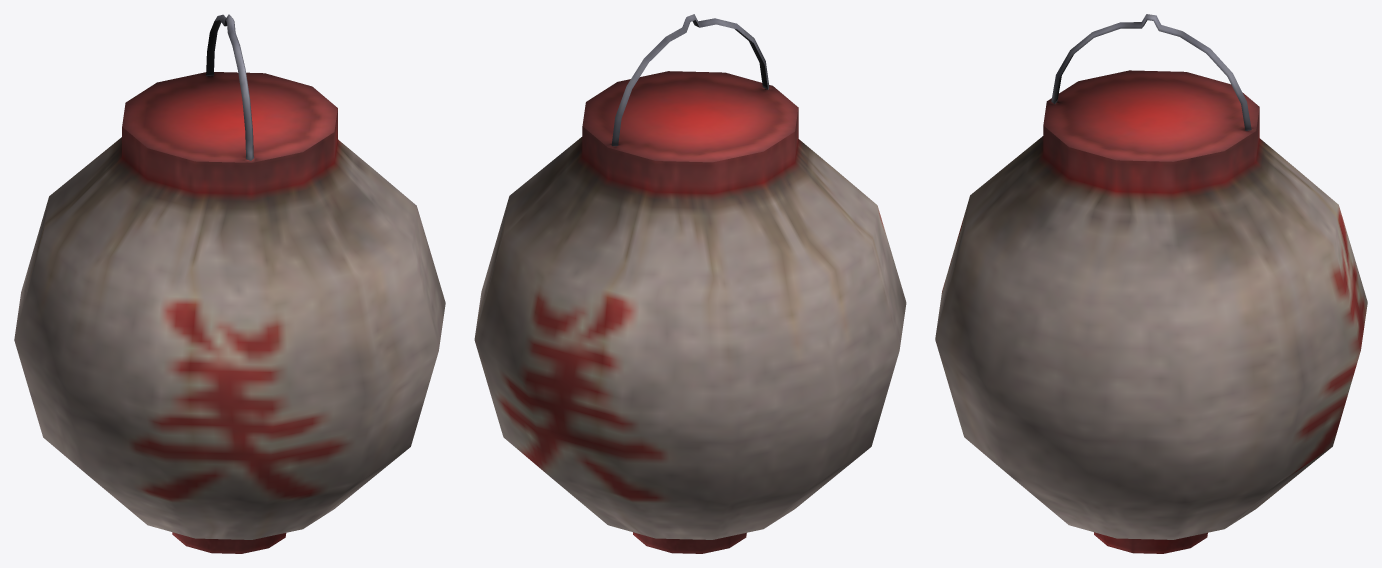
The model's file is Lamp.FBX.
3 views of the same model, side by side, from view 1: azimuth 30°, elevation 25°; view 2: azimuth 150°, elevation 25°; view 3: azimuth 270°, elevation 25° (orthographic).
Visible parts, largest first — view 1: lamp; view 2: lamp; view 3: lamp.
Boxes of the visible parts, box(x1,y1,x2,y2) form: lamp: box(14, 14, 445, 553); lamp: box(474, 14, 906, 553); lamp: box(935, 14, 1367, 553).
Bounding box in the file's own units: 18.33 × 24.07 × 18.33.
